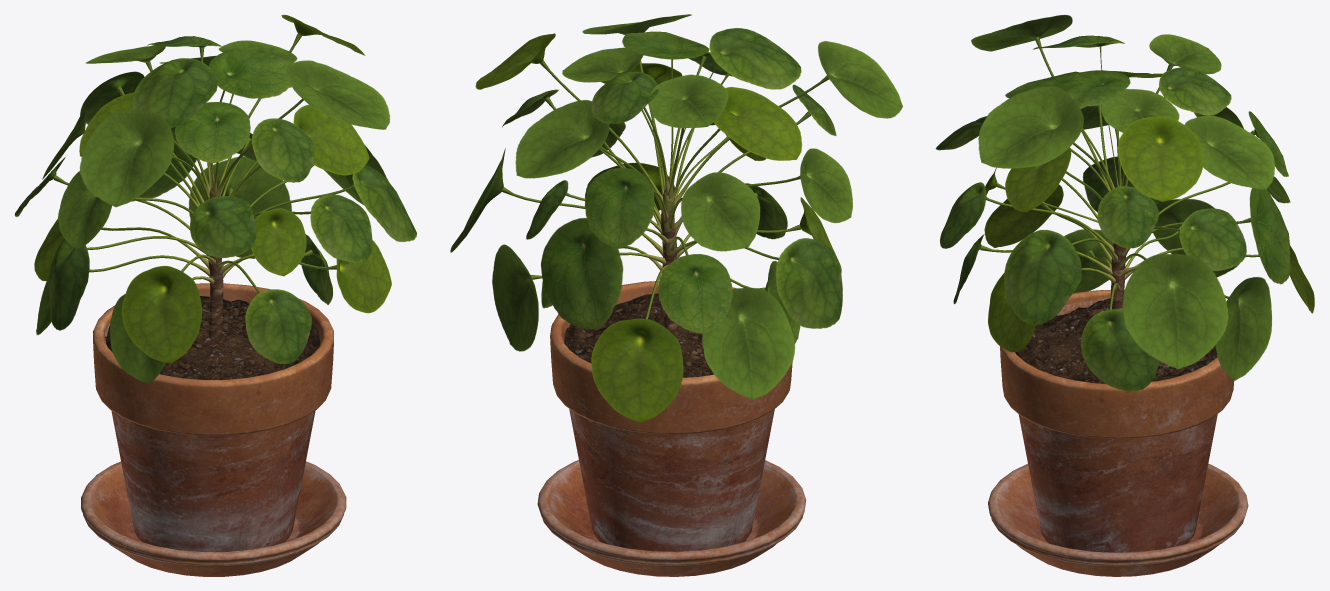
The model's file is plant-pilea-2k.glb.
3 renders of one model, left to right at view 1: azimuth 30°, elevation 25°; view 2: azimuth 150°, elevation 25°; view 3: azimuth 270°, elevation 25°, orthographic. The views are drawn at different scales.
Visible parts, largest first — view 1: PILEA_PEPEROMIOIDES, POT_TERRACOTTA_SMALL; view 2: PILEA_PEPEROMIOIDES, POT_TERRACOTTA_SMALL; view 3: PILEA_PEPEROMIOIDES, POT_TERRACOTTA_SMALL.
Part boxes in pixels (x1,y1,x2,y2): PILEA_PEPEROMIOIDES: [14, 15, 416, 383]; POT_TERRACOTTA_SMALL: [81, 283, 346, 576]; PILEA_PEPEROMIOIDES: [450, 14, 902, 422]; POT_TERRACOTTA_SMALL: [537, 281, 806, 576]; PILEA_PEPEROMIOIDES: [935, 15, 1314, 391]; POT_TERRACOTTA_SMALL: [988, 289, 1248, 576].
Size of the model in its own units: 0.277 by 0.36 by 0.2601.
Materials: 2 (2 with a texture image).
